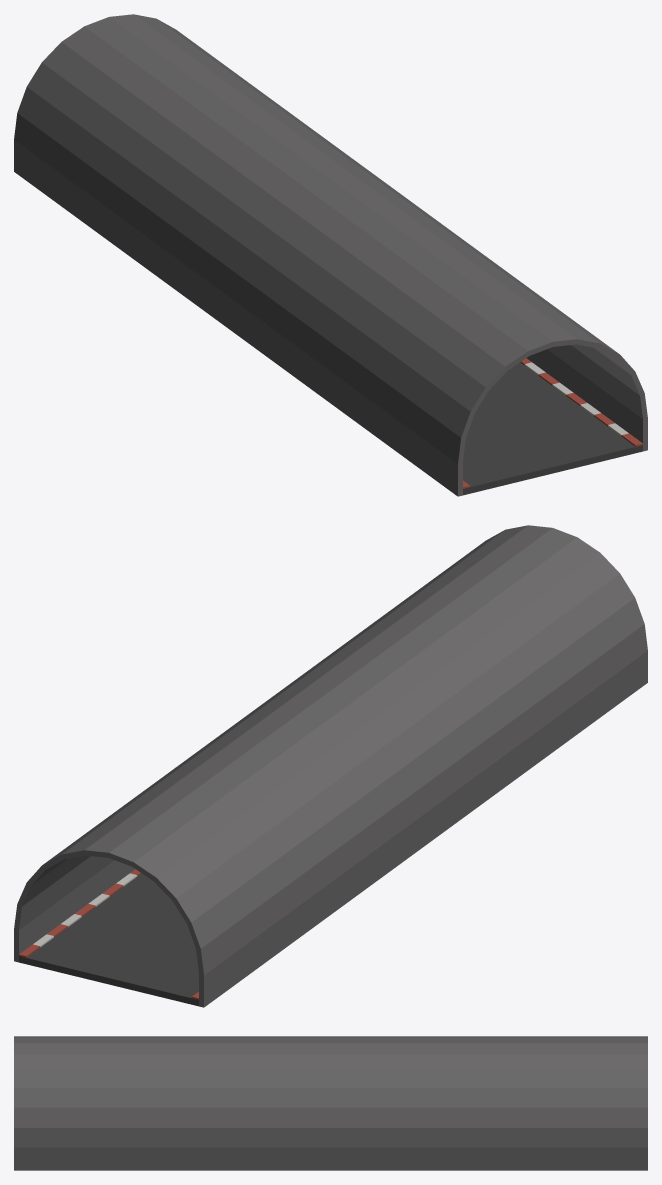
Rendered from tp-tunnel.glb.
3 renders of one model, top to bottom at view 1: azimuth 30°, elevation 25°; view 2: azimuth 150°, elevation 25°; view 3: azimuth 270°, elevation 25°, orthographic. The views are drawn at different scales.
Parts seen in each view (by area): view 1: tp-tunnel; view 2: tp-tunnel; view 3: tp-tunnel.
Boxes of the visible parts, x1,y1,x2,y2 form: tp-tunnel: (14, 14, 647, 496); tp-tunnel: (14, 525, 647, 1007); tp-tunnel: (14, 1036, 647, 1170).
Size of what is drawn, in the model's own units: 15.43 by 10.21 by 62.42.
Materials: 1 (1 with a texture image).
